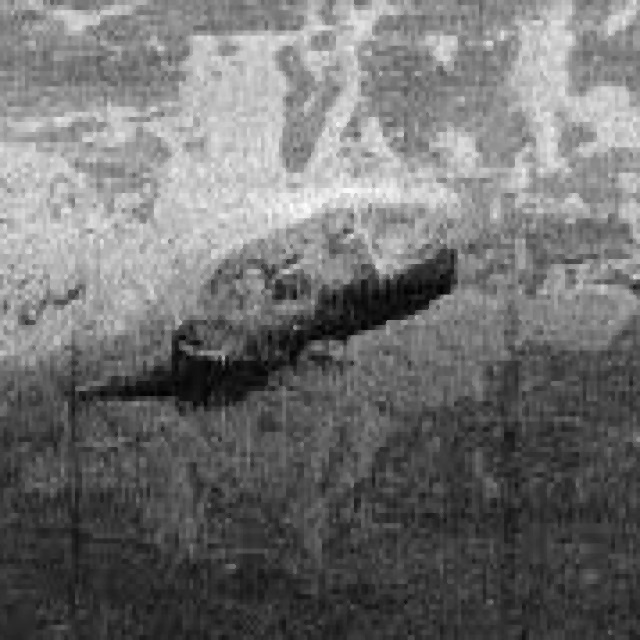Ship: (76, 187, 467, 422)
